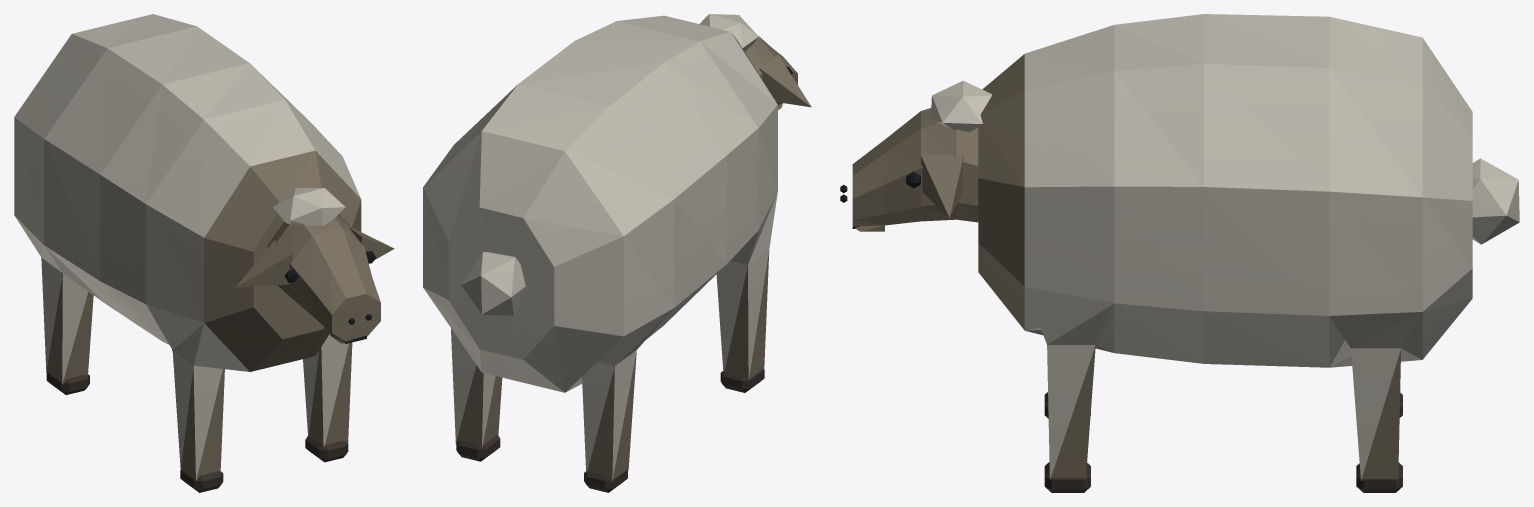
The model's file is sheep.glb.
The picture shows the model from 3 angles, left to right: view 1: azimuth 30°, elevation 25°; view 2: azimuth 150°, elevation 25°; view 3: azimuth 270°, elevation 25°; orthographic projection. The views are drawn at different scales.
Visible parts, largest first — view 1: sheep; view 2: sheep; view 3: sheep.
Boxes of the visible parts, x1=… form: sheep: x1=14, y1=14, x2=394, y2=492; sheep: x1=423, y1=14, x2=811, y2=492; sheep: x1=840, y1=14, x2=1519, y2=492.
Bounding box in the file's own units: 0.6098 × 0.954 × 1.42.
